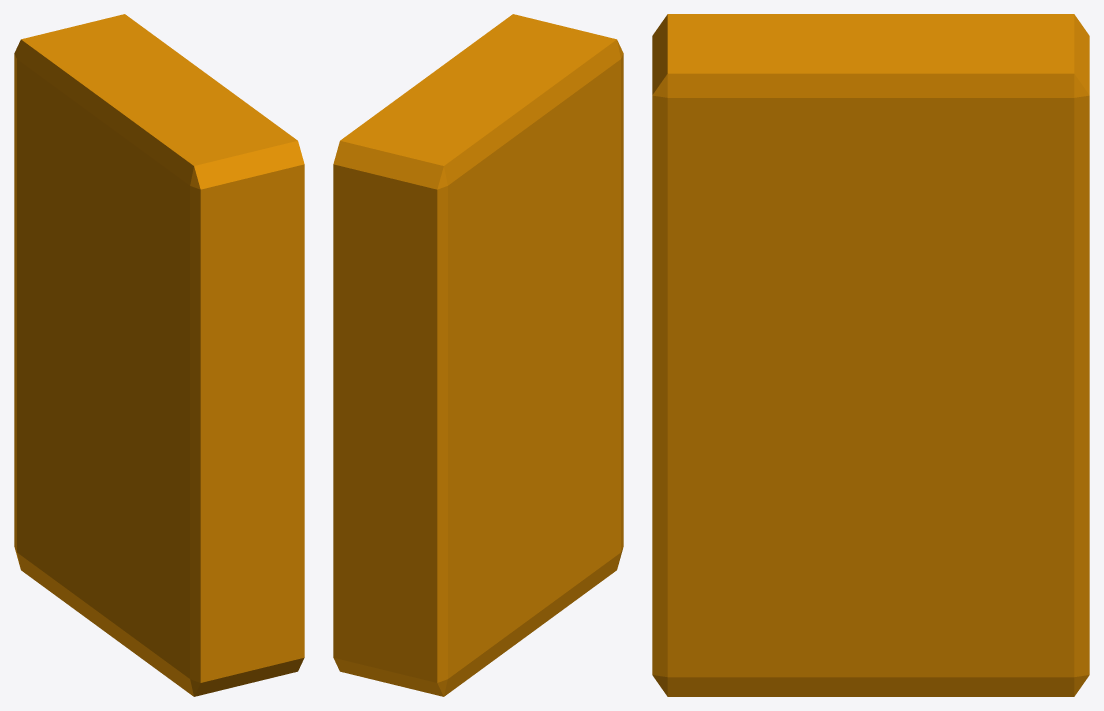
The model's file is Door.fbx.
The picture shows the model from 3 angles, left to right: view 1: azimuth 30°, elevation 25°; view 2: azimuth 150°, elevation 25°; view 3: azimuth 270°, elevation 25°; orthographic projection. The views are drawn at different scales.
Parts seen in each view (by area): view 1: Cube; view 2: Cube; view 3: Cube.
Part boxes in pixels (left/top/right/bottom): Cube: left=14, top=14, right=304, bottom=696; Cube: left=333, top=14, right=623, bottom=696; Cube: left=652, top=14, right=1089, bottom=696.
Bounding box in the file's own units: 69.33 × 314 × 200.
